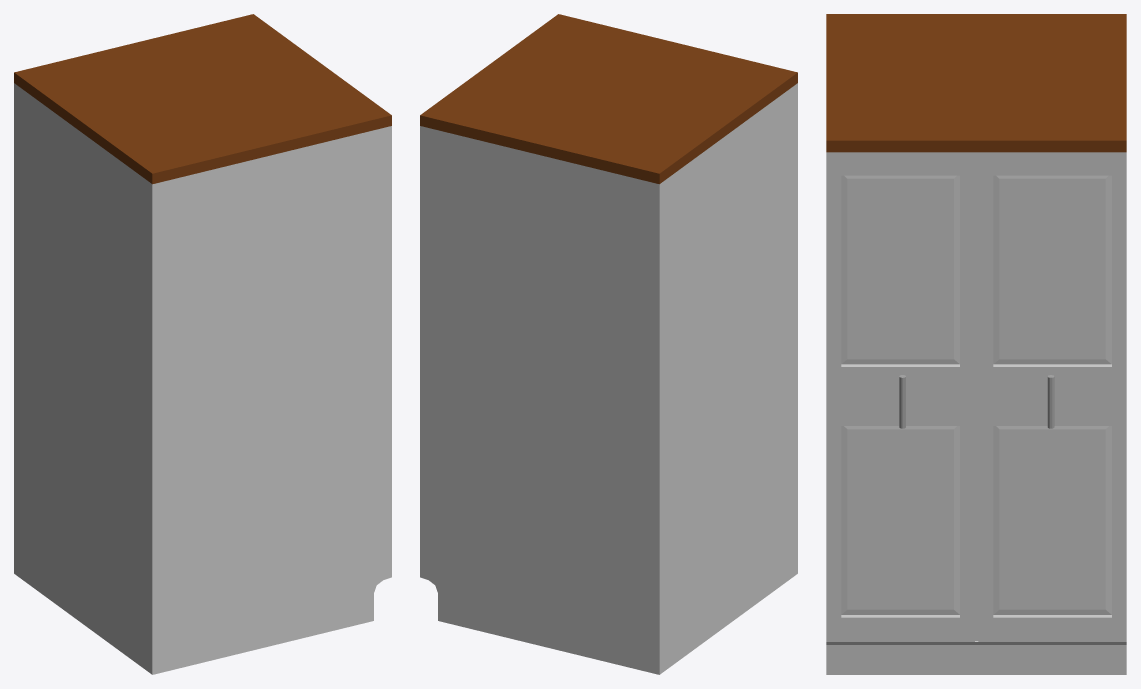
Rendered from Cuisine_Armoire.fbx.
3 renders of one model, left to right at view 1: azimuth 30°, elevation 25°; view 2: azimuth 150°, elevation 25°; view 3: azimuth 270°, elevation 25°, orthographic. The views are drawn at different scales.
Visible parts, largest first — view 1: Cube; view 2: Cube; view 3: Cube.
Part boxes in pixels (bbox=[...]): Cube: bbox=[14, 14, 391, 674]; Cube: bbox=[420, 14, 797, 674]; Cube: bbox=[826, 14, 1126, 674].
Bounding box in the file's own units: 210 × 400 × 200.
